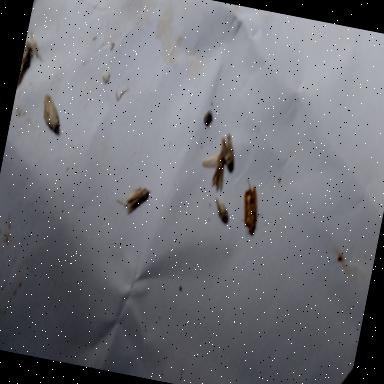pbw: (236, 180, 270, 242), (196, 148, 230, 192), (114, 180, 152, 218), (16, 41, 42, 91), (214, 132, 241, 176), (38, 94, 66, 135), (212, 197, 232, 224)
